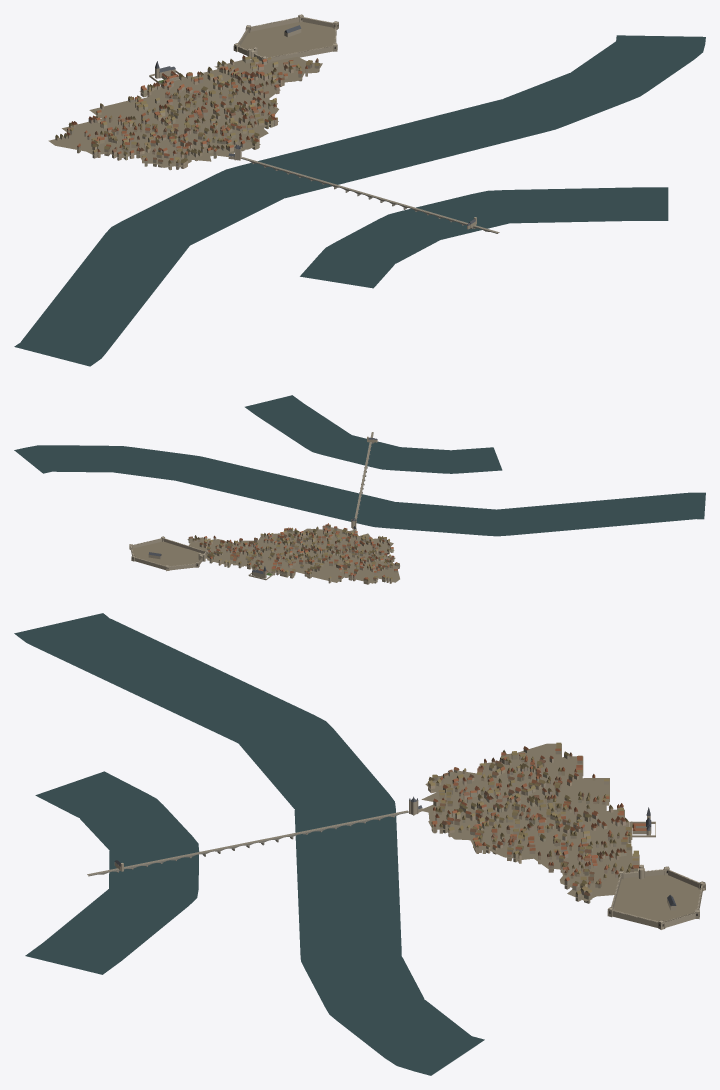
The model's file is avignon_siege.glb.
3 views of the same model, one above another, from view 1: azimuth 30°, elevation 25°; view 2: azimuth 150°, elevation 25°; view 3: azimuth 270°, elevation 25° (orthographic). The views are drawn at different scales.
Parts seen in each view (by area): view 1: ground, houses, landmarks; view 2: ground, houses, landmarks; view 3: ground, houses, landmarks.
Part boxes in pixels (x1=…): ground: x1=14, y1=35, x2=705, y2=366; houses: x1=55, y1=55, x2=319, y2=170; landmarks: x1=149, y1=14, x2=499, y2=233; ground: x1=14, y1=395, x2=705, y2=583; houses: x1=188, y1=523, x2=399, y2=584; landmarks: x1=129, y1=432, x2=377, y2=580; ground: x1=14, y1=613, x2=639, y2=1075; houses: x1=427, y1=742, x2=638, y2=903; landmarks: x1=87, y1=796, x2=705, y2=929.
Size of the model in its own units: 2809 by 64.2 by 1775.
